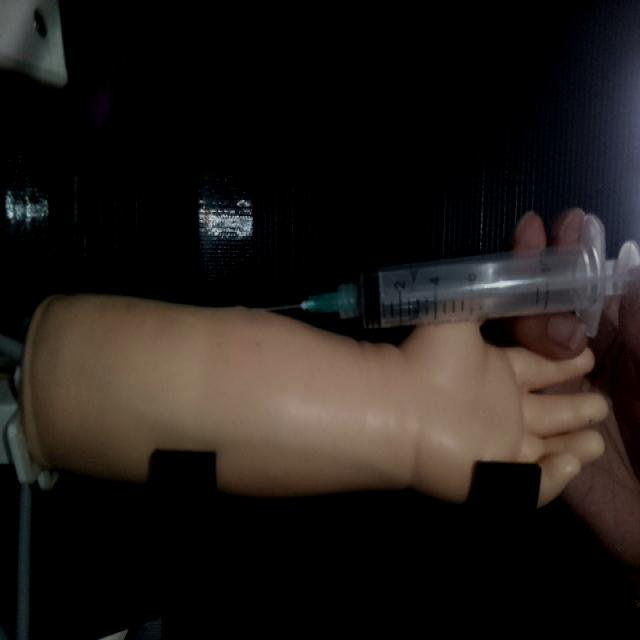Below 15 degrees: (262, 225, 639, 338)
